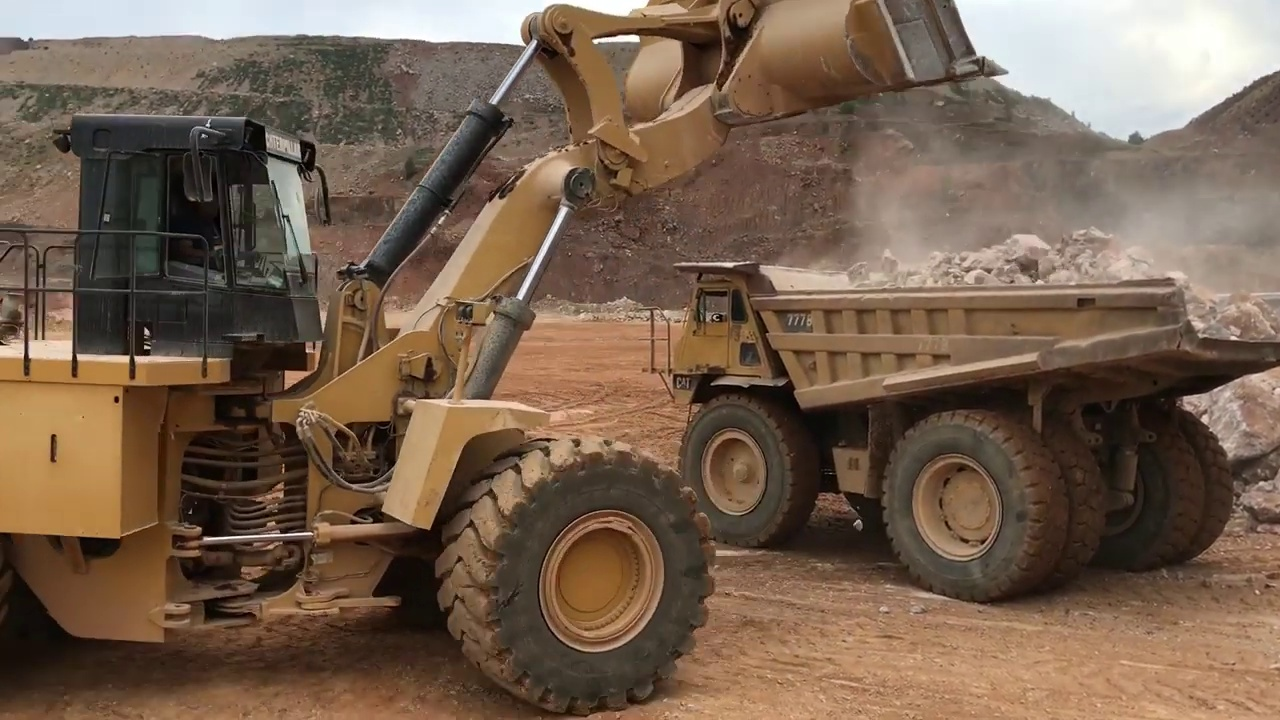dumper: (646, 257, 1277, 601)
wheel loader: (3, 2, 1012, 720)
